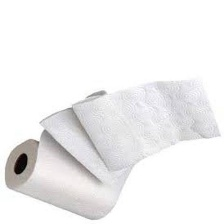tissue: (0, 85, 144, 223), (67, 73, 224, 177)
